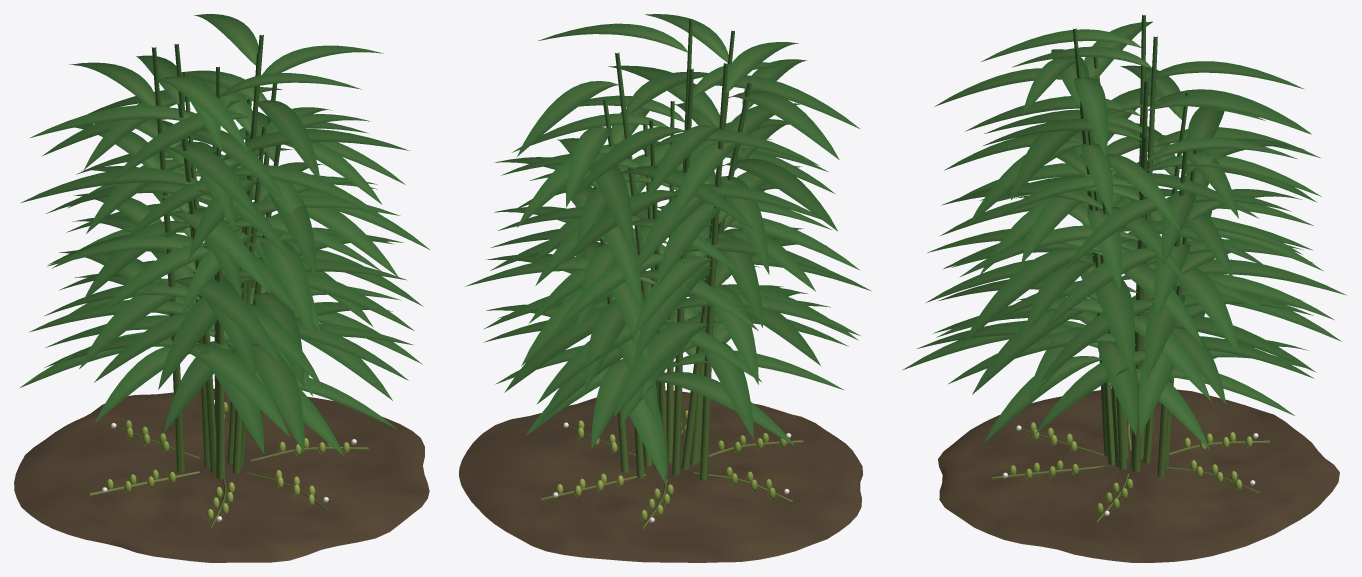
The model's file is cardamom-plant.glb.
3 renders of one model, left to right at view 1: azimuth 30°, elevation 25°; view 2: azimuth 150°, elevation 25°; view 3: azimuth 270°, elevation 25°, orthographic. The views are drawn at different scales.
Parts seen in each view (by area): view 1: cardamom-leaf-upper, soil, pseudostems, pods, panicles; view 2: cardamom-leaf-upper, soil, pseudostems, pods, panicles; view 3: cardamom-leaf-upper, soil, pseudostems, pods, panicles.
Boxes of the visible parts, bbox=[...] form: cardamom-leaf-upper: bbox=[20, 14, 429, 456]; soil: bbox=[14, 388, 429, 562]; pseudostems: bbox=[151, 35, 280, 479]; pods: bbox=[106, 402, 349, 520]; panicles: bbox=[90, 423, 368, 528]; cardamom-leaf-upper: bbox=[465, 14, 871, 483]; soil: bbox=[459, 390, 862, 562]; pseudostems: bbox=[589, 19, 751, 480]; pods: bbox=[556, 410, 786, 521]; panicles: bbox=[541, 423, 803, 529]; cardamom-leaf-upper: bbox=[902, 21, 1346, 449]; soil: bbox=[938, 389, 1339, 562]; pseudostems: bbox=[1073, 15, 1197, 477]; pods: bbox=[1009, 422, 1252, 514]; panicles: bbox=[991, 422, 1270, 522].
Bounding box in the file's own units: 1.8 × 2.04 × 1.91.
